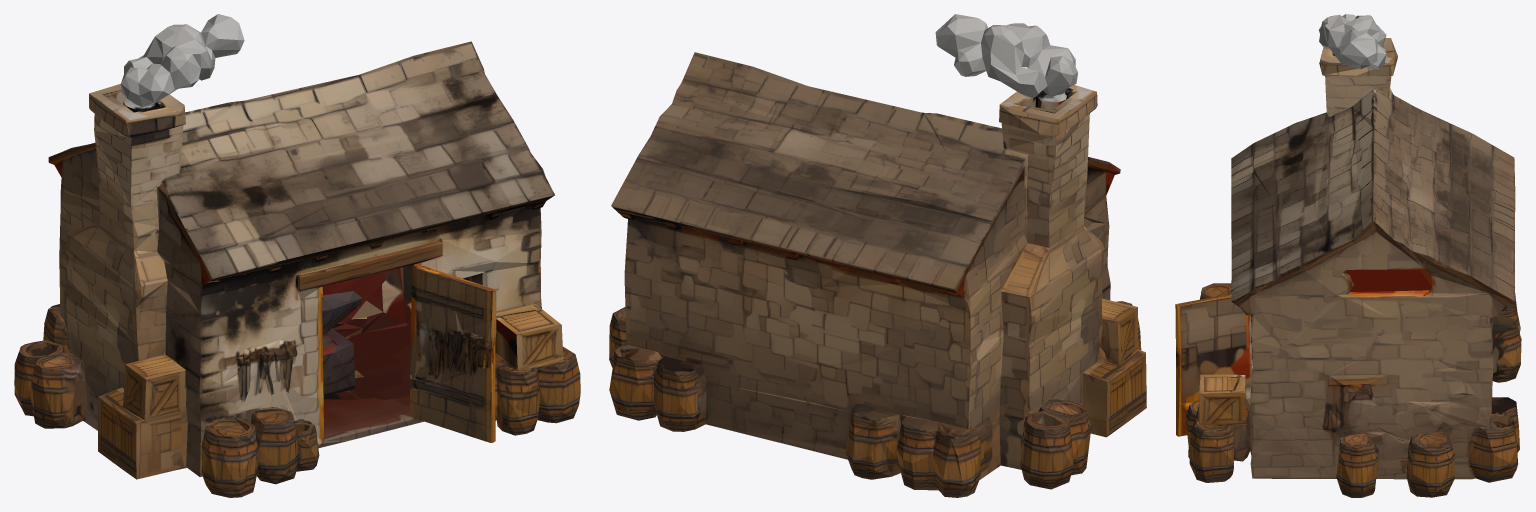
Rendered from blacksmith.glb.
3 views of the same model, side by side, from view 1: azimuth 30°, elevation 25°; view 2: azimuth 150°, elevation 25°; view 3: azimuth 270°, elevation 25° (orthographic). The views are drawn at different scales.
Parts seen in each view (by area): view 1: textured_mesh.obj; view 2: textured_mesh.obj; view 3: textured_mesh.obj.
Part boxes in pixels (bbox=[...]): textured_mesh.obj: bbox=[14, 14, 580, 497]; textured_mesh.obj: bbox=[609, 14, 1146, 497]; textured_mesh.obj: bbox=[1175, 14, 1521, 497].
Bounding box in the file's own units: 1.98 × 1.62 × 1.49.
1 material, 1 textured.
